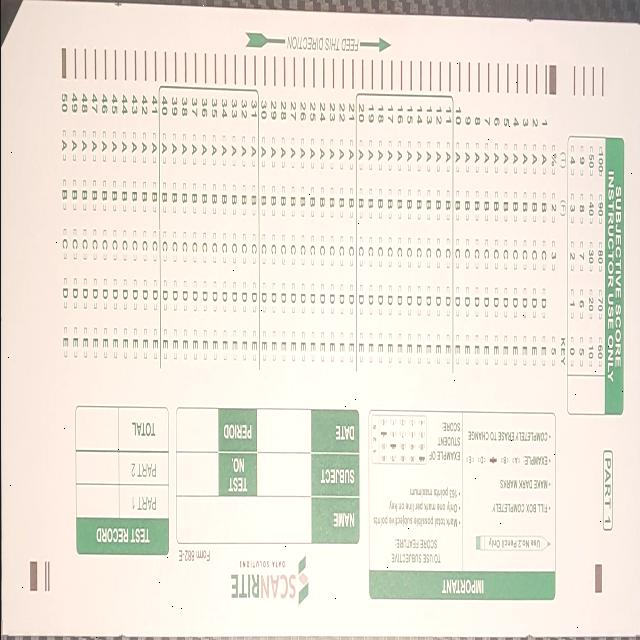scantron: (0, 2, 640, 635)
